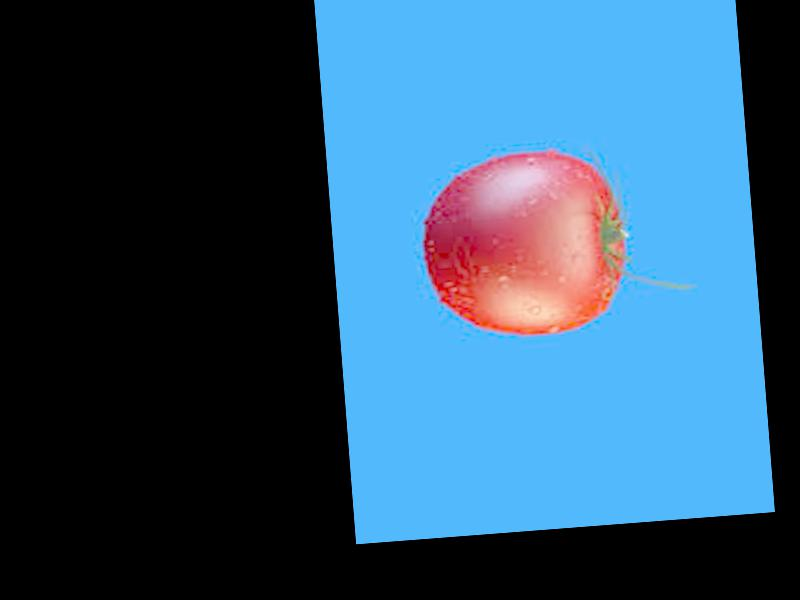Tomato: (416, 143, 632, 343)
